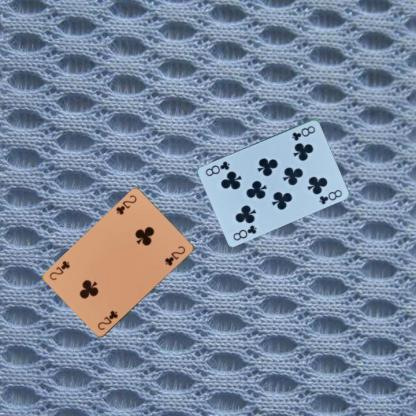2c: (94, 308, 119, 332), (113, 192, 138, 216)
8c: (230, 223, 258, 242), (289, 123, 316, 142)
